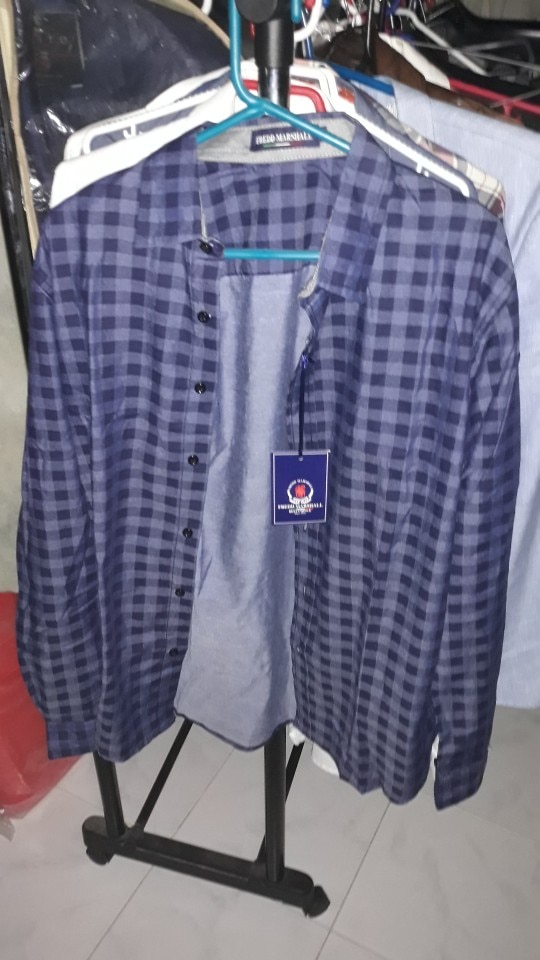shirts: (36, 107, 518, 809)
